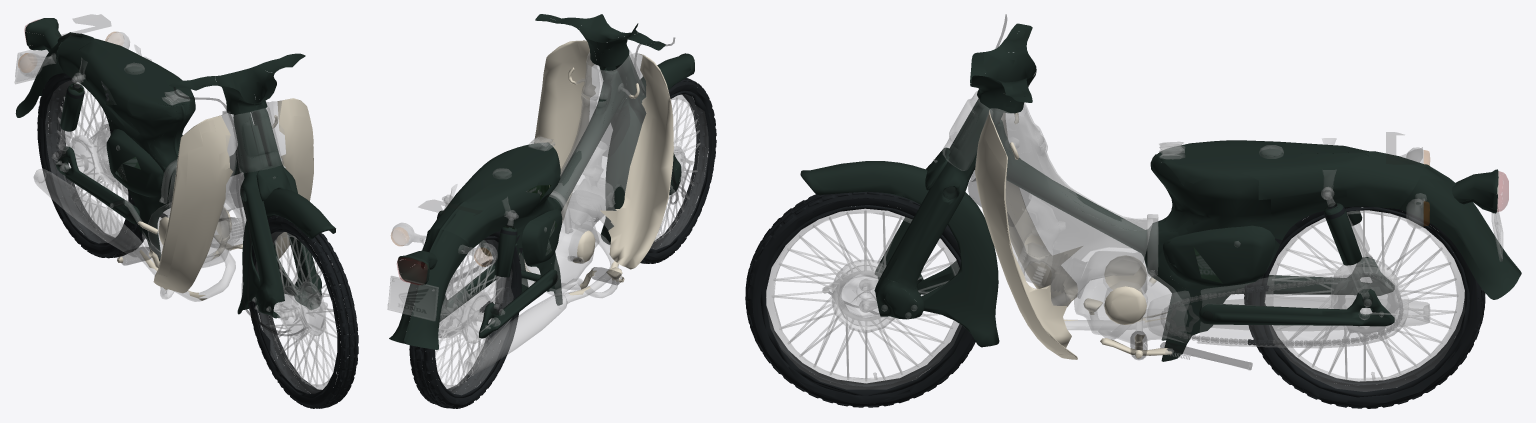
File: cub.glb
The picture shows the model from 3 angles, left to right: view 1: azimuth 30°, elevation 25°; view 2: azimuth 150°, elevation 25°; view 3: azimuth 270°, elevation 25°; orthographic projection. The views are drawn at different scales.
Parts seen in each view (by area): view 1: ReferencePart, ReferencePart.004, ReferencePart.005, ReferencePart.003, ReferencePart.006, ReferencePart.007, ReferencePart.008, ReferencePart.001; view 2: ReferencePart, ReferencePart.004, ReferencePart.003, ReferencePart.006, ReferencePart.005, ReferencePart.008, ReferencePart.001, ReferencePart.007; view 3: ReferencePart, ReferencePart.004, ReferencePart.005, ReferencePart.003, ReferencePart.006, ReferencePart.008, ReferencePart.007, ReferencePart.001, ReferencePart.010.
Boxes of the visible parts, x1,y1,x2,y2 form: ReferencePart: [33, 53, 313, 301]; ReferencePart.004: [15, 14, 335, 318]; ReferencePart.005: [248, 215, 358, 408]; ReferencePart.003: [37, 68, 145, 258]; ReferencePart.006: [14, 18, 304, 335]; ReferencePart.007: [252, 235, 336, 386]; ReferencePart.008: [52, 84, 127, 234]; ReferencePart.001: [52, 84, 109, 200]; ReferencePart: [438, 14, 673, 375]; ReferencePart.004: [389, 49, 694, 358]; ReferencePart.003: [409, 231, 522, 408]; ReferencePart.006: [387, 37, 690, 321]; ReferencePart.005: [640, 78, 716, 263]; ReferencePart.008: [435, 242, 504, 387]; ReferencePart.001: [437, 213, 517, 356]; ReferencePart.007: [655, 97, 700, 241]; ReferencePart: [968, 23, 1429, 361]; ReferencePart.004: [800, 91, 1521, 347]; ReferencePart.005: [745, 192, 975, 407]; ReferencePart.003: [1244, 206, 1485, 408]; ReferencePart.006: [828, 14, 1508, 369]; ReferencePart.008: [1270, 210, 1458, 381]; ReferencePart.007: [772, 210, 952, 381]; ReferencePart.001: [1242, 205, 1403, 326]; ReferencePart.010: [1247, 318, 1400, 345].
Size of the model in its own units: 0.4922 by 0.9396 by 1.89.
Materials: 4 (1 with a texture image).
